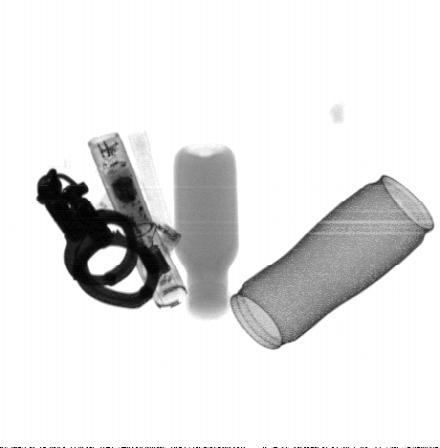Baton: (84, 130, 188, 308)
HandCuffs: (37, 170, 161, 309)
Lighter: (99, 189, 182, 254)
